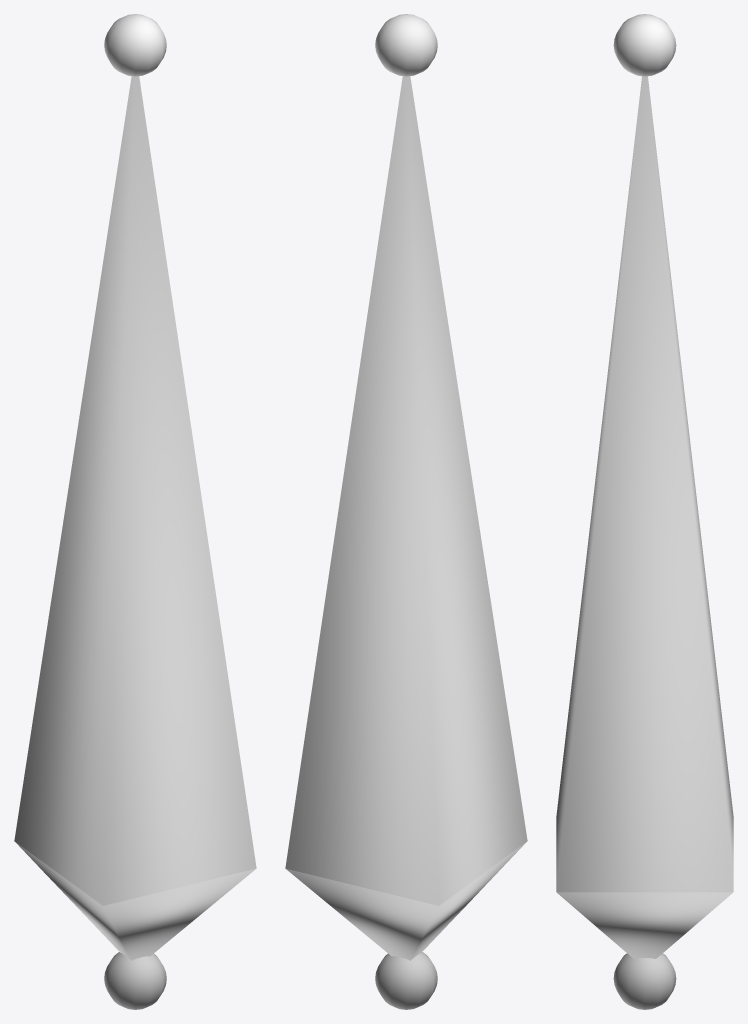
Rendered from Bone1.obj.
3 renders of one model, left to right at view 1: azimuth 30°, elevation 25°; view 2: azimuth 150°, elevation 25°; view 3: azimuth 270°, elevation 25°, orthographic.
Parts seen in each view (by area): view 1: Cube, Sphere.001, Sphere; view 2: Cube, Sphere.001, Sphere; view 3: Cube, Sphere.001, Sphere.
Part boxes in pixels (<box>): Cube: <box>14,76,256,960</box>; Sphere.001: <box>104,14,166,76</box>; Sphere: <box>104,952,166,1009</box>; Cube: <box>285,76,527,960</box>; Sphere.001: <box>375,14,437,76</box>; Sphere: <box>375,952,437,1009</box>; Cube: <box>556,76,733,958</box>; Sphere.001: <box>613,14,676,76</box>; Sphere: <box>613,953,676,1009</box>.
Bounding box in the file's own units: 0.2 × 1.23 × 0.2.
